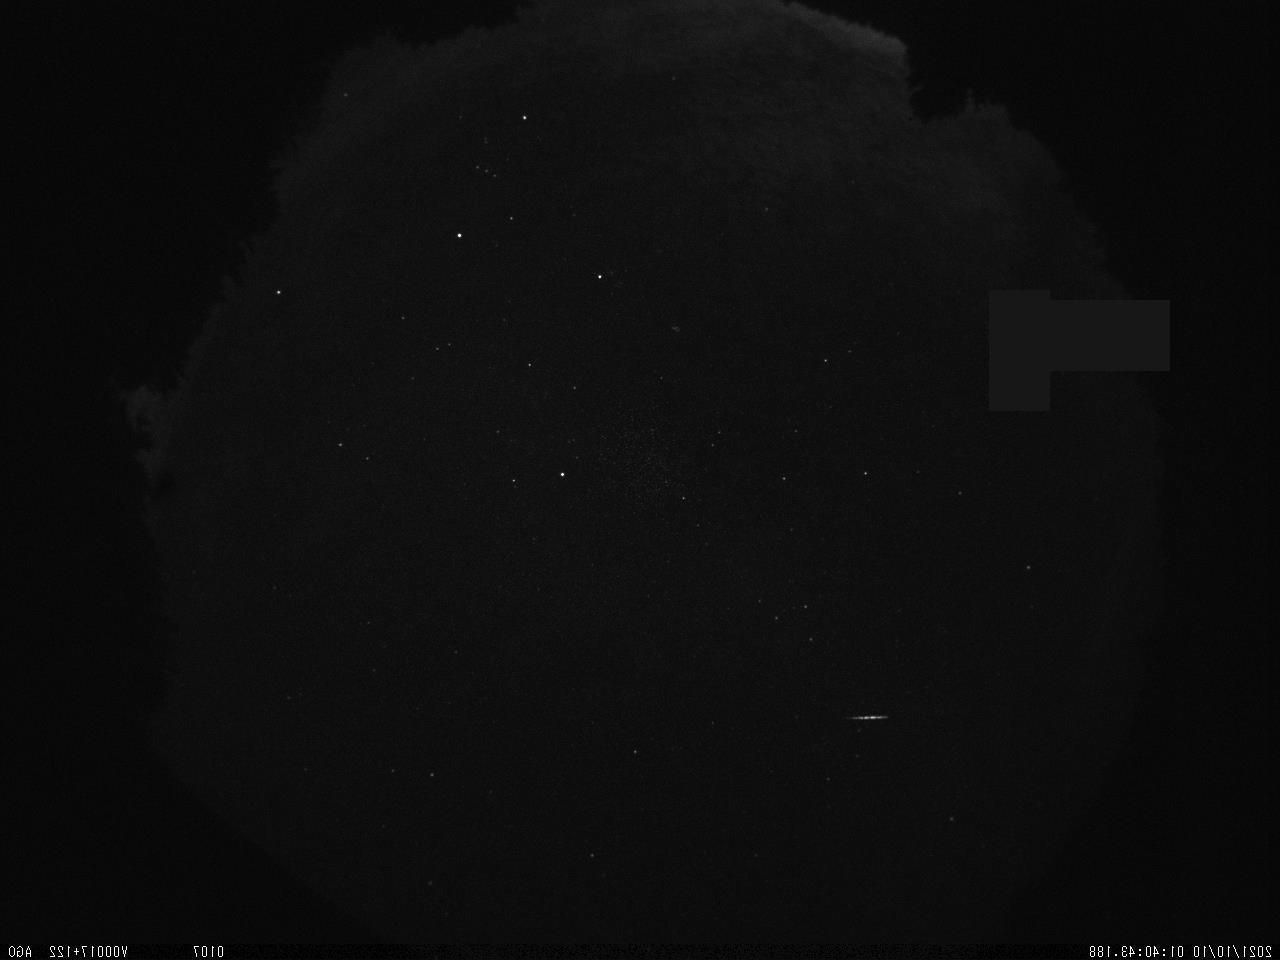meteor: (836, 694, 904, 733)
